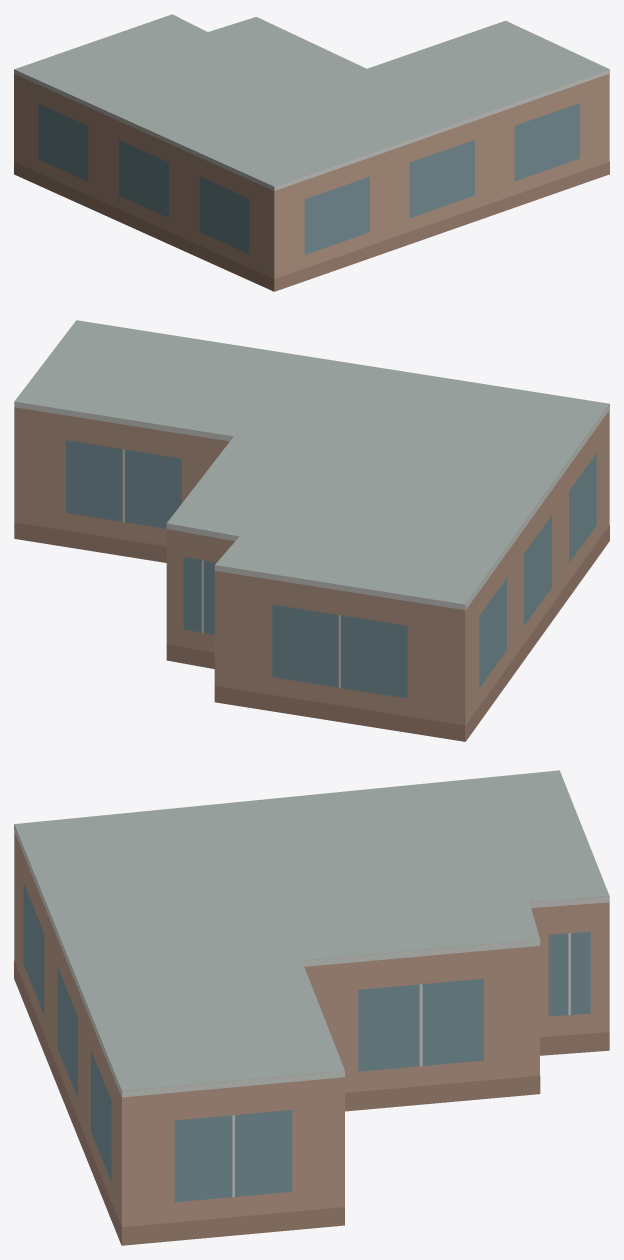
Rendered from survey-upis-32919353.glb.
3 views of the same model, one above another, from view 1: azimuth 30°, elevation 25°; view 2: azimuth 150°, elevation 25°; view 3: azimuth 270°, elevation 25° (orthographic). The views are drawn at different scales.
Parts seen in each view (by area): view 1: survey-upis-32919353.tmp; view 2: survey-upis-32919353.tmp; view 3: survey-upis-32919353.tmp.
Boxes of the visible parts, x1,y1,x2,y2 form: survey-upis-32919353.tmp: [14, 14, 609, 291]; survey-upis-32919353.tmp: [14, 320, 609, 741]; survey-upis-32919353.tmp: [14, 770, 609, 1245].
Size of the model in its own units: 13.59 by 3.05 by 10.66.
